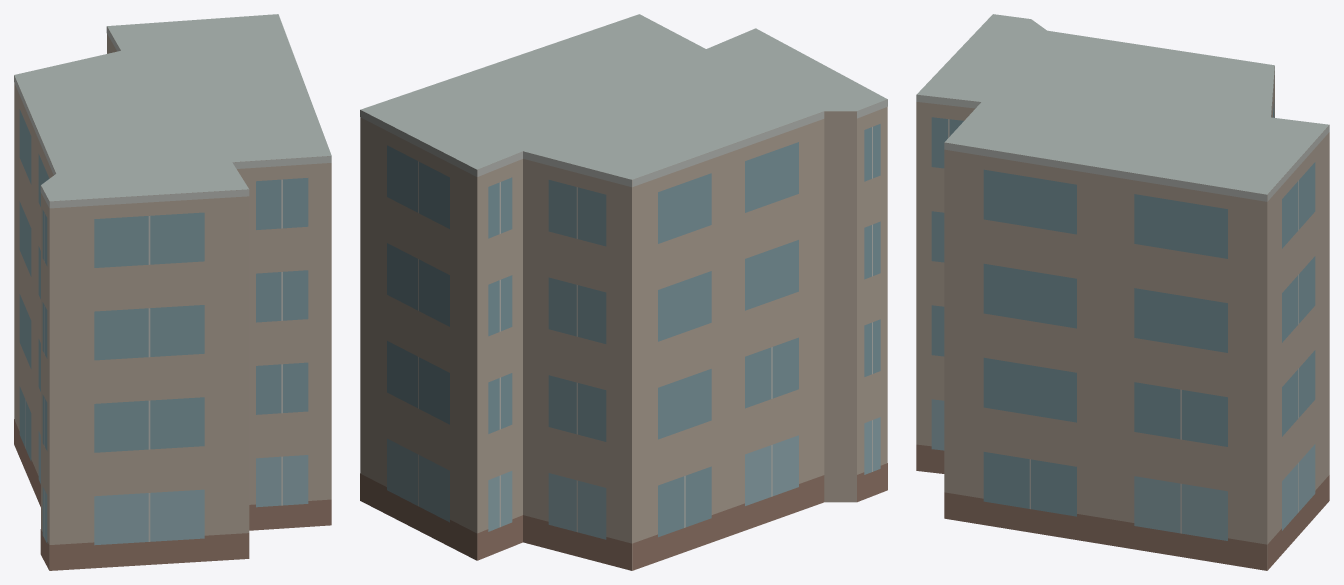
Rendered from survey-upis-32975955.glb.
3 renders of one model, left to right at view 1: azimuth 30°, elevation 25°; view 2: azimuth 150°, elevation 25°; view 3: azimuth 270°, elevation 25°, orthographic. The views are drawn at different scales.
Parts seen in each view (by area): view 1: survey-upis-32975955.tmp; view 2: survey-upis-32975955.tmp; view 3: survey-upis-32975955.tmp.
Part boxes in pixels (x1=…): survey-upis-32975955.tmp: x1=14, y1=14, x2=331, y2=570; survey-upis-32975955.tmp: x1=360, y1=14, x2=887, y2=570; survey-upis-32975955.tmp: x1=916, y1=14, x2=1329, y2=570.
Bounding box in the file's own units: 13.2 × 12.8 × 12.75.
